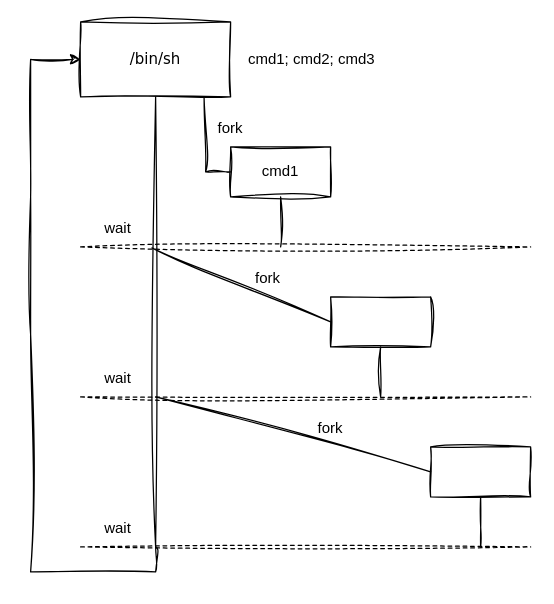
Image size: 554x604. Some labels were removed from this diagram. The centre of each missing label's shape, as x and y in pixels:
"cmd2" goes at [380,321].
"cmd3" goes at [480,471].
